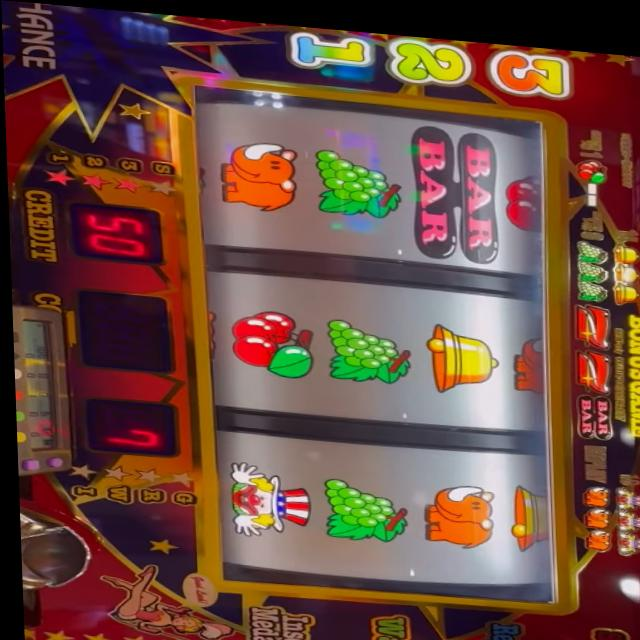bar: (407, 115, 499, 257), (570, 383, 609, 431)
bell: (420, 313, 498, 391), (503, 474, 548, 546), (607, 231, 640, 253), (608, 272, 638, 294), (609, 252, 640, 272)
cherry: (226, 303, 314, 375), (500, 162, 540, 224), (574, 147, 609, 173)
clown: (223, 456, 310, 538), (610, 518, 640, 547), (613, 474, 640, 500), (612, 498, 640, 521)
display: (193, 80, 560, 601)
elephant: (215, 133, 301, 211), (416, 472, 496, 544), (506, 323, 547, 386), (578, 517, 609, 543), (579, 496, 609, 520), (578, 473, 606, 497)
grape: (308, 141, 405, 214), (318, 311, 412, 381), (313, 470, 407, 538), (572, 249, 607, 271), (573, 229, 604, 252), (574, 269, 605, 291)
z: (566, 292, 611, 340), (568, 338, 608, 385)
